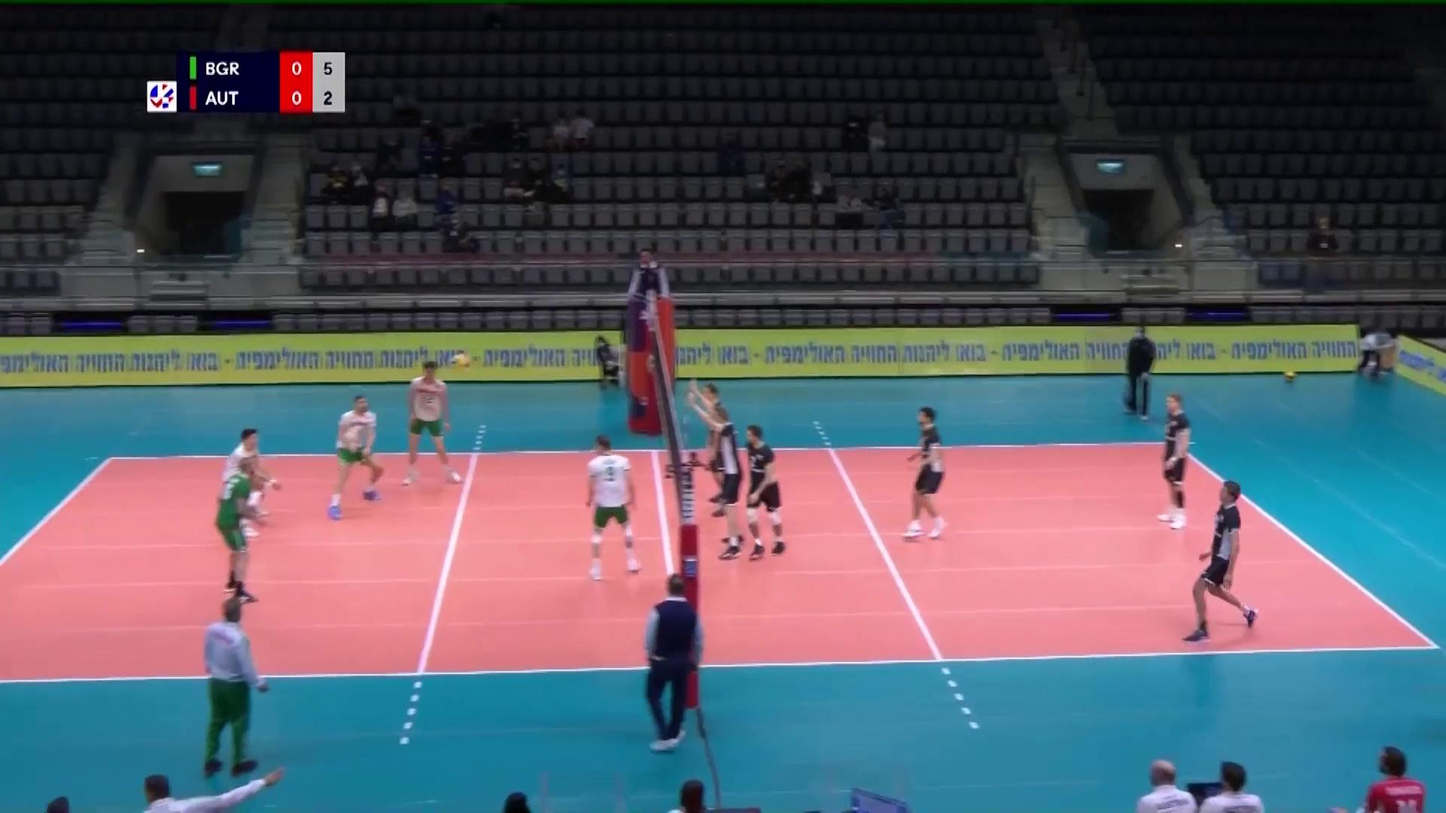ball: (453, 353, 472, 368)
